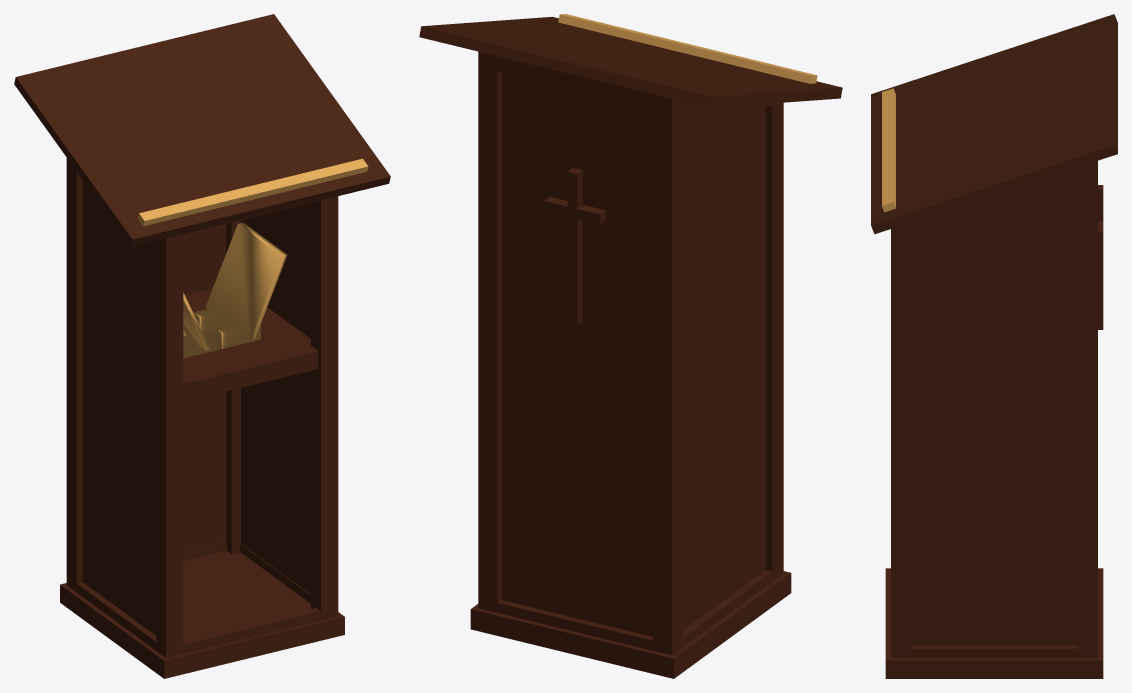
The model's file is simplepulpit1.fbx.
The picture shows the model from 3 angles, left to right: view 1: azimuth 30°, elevation 25°; view 2: azimuth 150°, elevation 25°; view 3: azimuth 270°, elevation 25°; orthographic projection. The views are drawn at different scales.
Visible parts, largest first — view 1: wall2; view 2: wall2; view 3: wall2.
Boxes of the visible parts, <box> form: wall2: <box>14,14,390,678</box>; wall2: <box>419,14,842,678</box>; wall2: <box>871,14,1117,678</box>.
Bounding box in the file's own units: 180 × 354 × 143.
